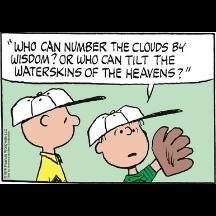charlie: (11, 88, 80, 184)
